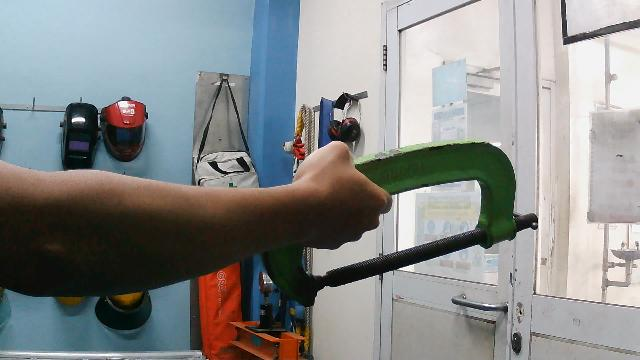tekiro_c_clamp: (249, 136, 544, 310)
